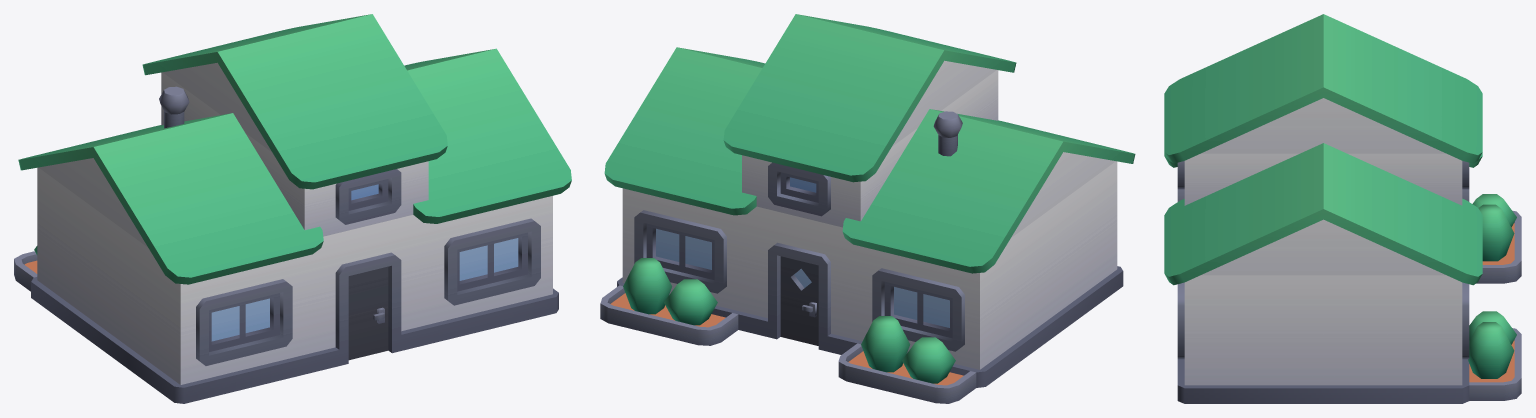
The model's file is suburban-building-type-a.glb.
3 renders of one model, left to right at view 1: azimuth 30°, elevation 25°; view 2: azimuth 150°, elevation 25°; view 3: azimuth 270°, elevation 25°, orthographic. The views are drawn at different scales.
Parts seen in each view (by area): view 1: building-type-a; view 2: building-type-a; view 3: building-type-a.
Part boxes in pixels (left/top/right/bottom): building-type-a: left=14, top=14, right=571, bottom=403; building-type-a: left=600, top=14, right=1135, bottom=403; building-type-a: left=1164, top=14, right=1521, bottom=403.
Size of the model in its own units: 1.3 by 0.8336 by 1.03.
Materials: 1 (1 with a texture image).
